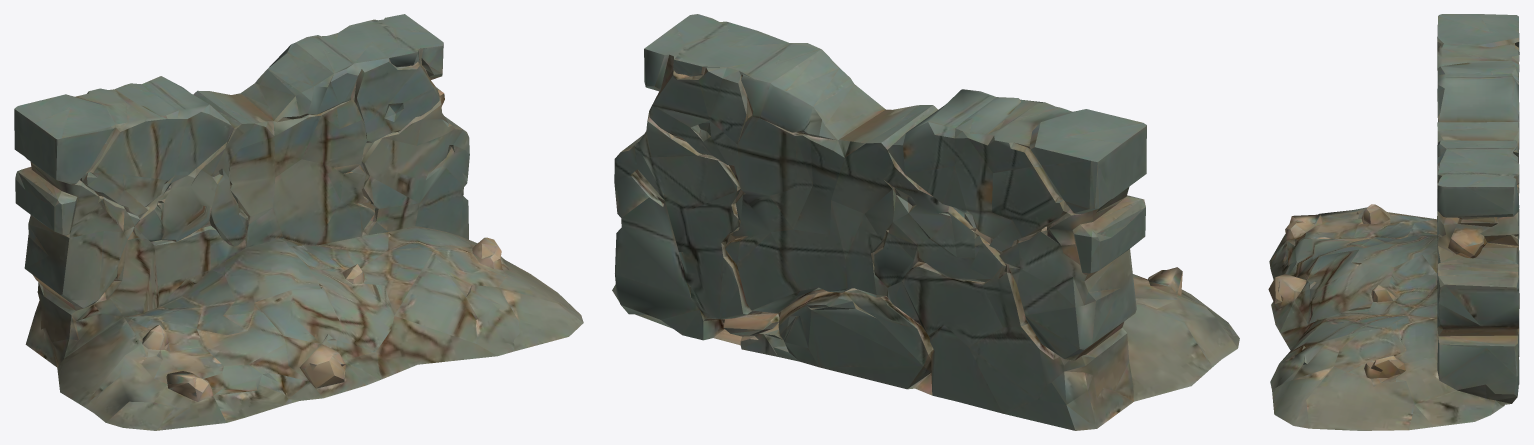
The model's file is wall_plains.glb.
3 renders of one model, left to right at view 1: azimuth 30°, elevation 25°; view 2: azimuth 150°, elevation 25°; view 3: azimuth 270°, elevation 25°, orthographic. The views are drawn at different scales.
Size of the model in its own units: 1.88 by 0.8855 by 0.9436.
Materials: 1 (1 with a texture image).
